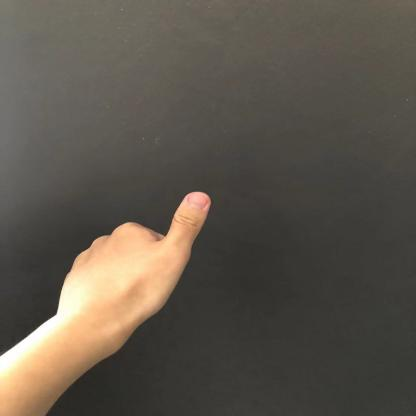Thumbs-Up: (85, 168, 255, 337)
